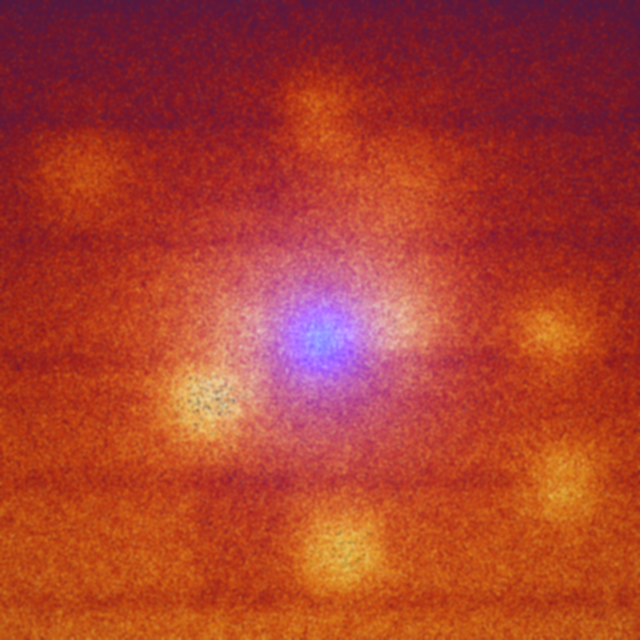nozzle: (272, 295, 387, 386)
